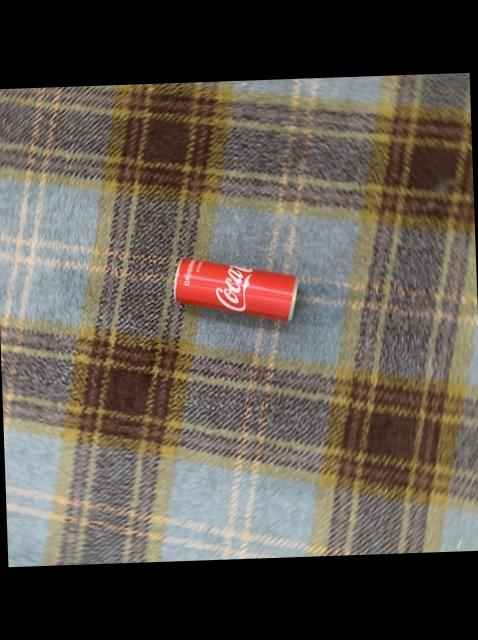metal: (175, 258, 297, 320)
